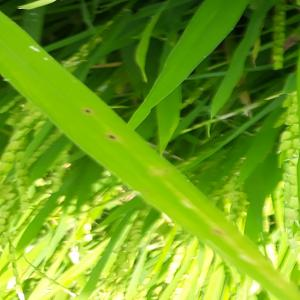Bercak Coklat: (102, 133, 119, 142), (81, 106, 93, 117)
